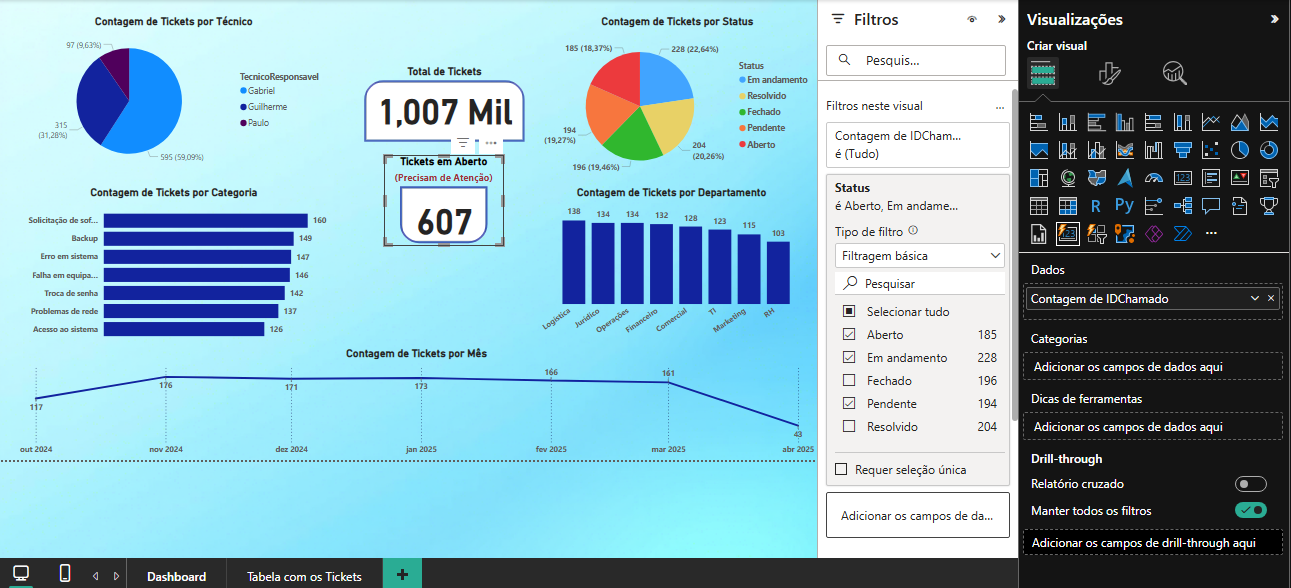

Layout of this report page (visuals, bound fields, positions):
{"tool":"powerbi","page":{"name":"Dashboard","canvas":[1280,720],"ordinal":0},"visuals":[{"type":"pieChart","title":"Contagem de Tickets por Status","fields":{"Category":["chamados.Status"],"Y":["CountNonNull(chamados.IDChamado)"]},"box":[843.7,23.4,436.3,267],"z":0},{"type":"pieChart","title":"Contagem de Tickets por Técnico","fields":{"Category":["chamados.TecnicoResponsavel"],"Y":["CountNonNull(chamados.IDChamado)"]},"box":[26.2,23.4,494.1,250.5],"z":1},{"type":"clusteredBarChart","title":"Contagem de Tickets por Categoria","fields":{"Category":["chamados.Categoria"],"Y":["Count(chamados.IDChamado)"]},"box":[26.2,290.4,494.1,251.9],"z":2},{"type":"cardVisual","title":"Total de Tickets","fields":{"Data":["Count(chamados.IDChamado)"]},"box":[565.7,101.8,261.5,125.2],"z":3},{"type":"cardVisual","title":"Tickets em Aberto","fields":{"Data":["Count(chamados.IDChamado)"]},"box":[602.8,242.2,187.2,143.1],"z":4},{"type":"lineChart","title":"Contagem de Tickets por Mês","fields":{"Category":["chamados.DataAbertura.Variation.Hierarquia de datas.Ano","chamados.DataAbertura.Variation.Hierarquia de datas.Mês"],"Y":["CountNonNull(chamados.IDChamado)"]},"box":[26.2,542.3,1253.8,177.5],"z":5},{"type":"columnChart","title":"Contagem de Tickets por Departamento","fields":{"Category":["chamados.Departamento"],"Y":["CountNonNull(chamados.IDChamado)"]},"box":[843.7,290.4,418.4,251.9],"z":6}]}

Visuals, with their boxes on the page's 1280x720 design canvas (x1, y1, x2, y2). These are canvas units, not pixel positions in the 1291x588 screenshot, which may show the page scaled, cropped or inside an application window:
"Contagem de Tickets por Status" pieChart: bbox(844, 23, 1280, 290)
"Contagem de Tickets por Técnico" pieChart: bbox(26, 23, 520, 274)
"Contagem de Tickets por Categoria" clusteredBarChart: bbox(26, 290, 520, 542)
"Total de Tickets" cardVisual: bbox(566, 102, 827, 227)
"Tickets em Aberto" cardVisual: bbox(603, 242, 790, 385)
"Contagem de Tickets por Mês" lineChart: bbox(26, 542, 1280, 720)
"Contagem de Tickets por Departamento" columnChart: bbox(844, 290, 1262, 542)
